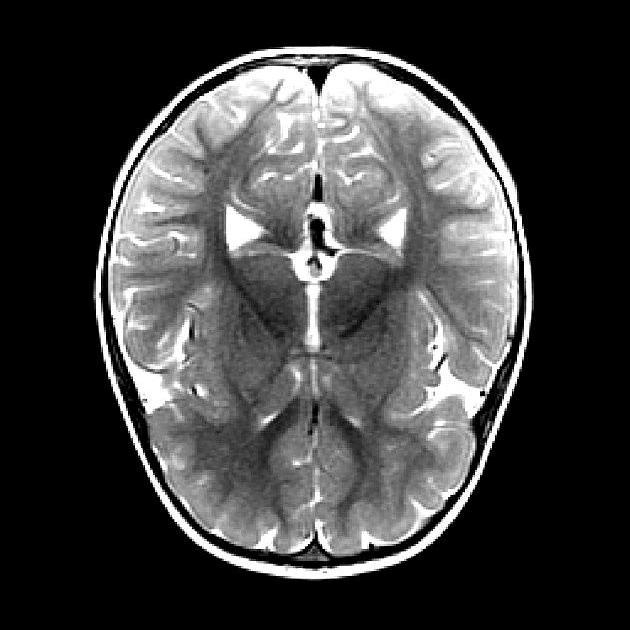Normal_Brain: (15, 1, 599, 630)
